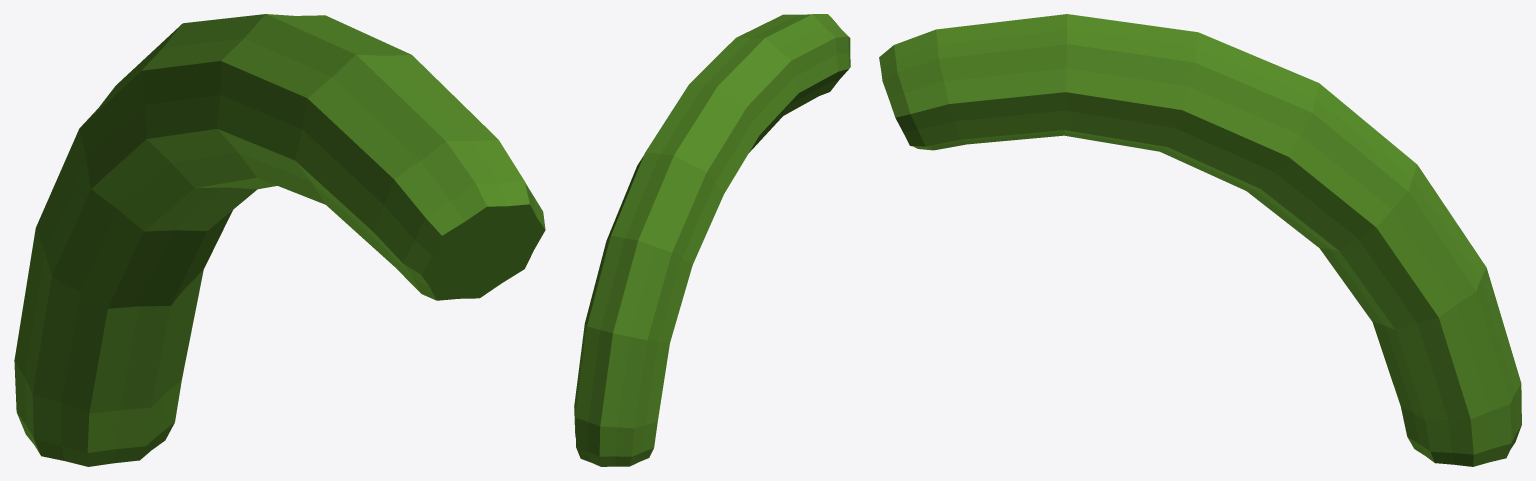
File: Cactus_04_A.fbx
3 renders of one model, left to right at view 1: azimuth 30°, elevation 25°; view 2: azimuth 150°, elevation 25°; view 3: azimuth 270°, elevation 25°, orthographic. The views are drawn at different scales.
Parts seen in each view (by area): view 1: Cactus_04_A; view 2: Cactus_04_A; view 3: Cactus_04_A.
Part boxes in pixels (<box>): Cactus_04_A: <box>14,14,545,466</box>; Cactus_04_A: <box>574,14,850,466</box>; Cactus_04_A: <box>879,14,1521,466</box>.
Bounding box in the file's own units: 40.87 × 147 × 200.
